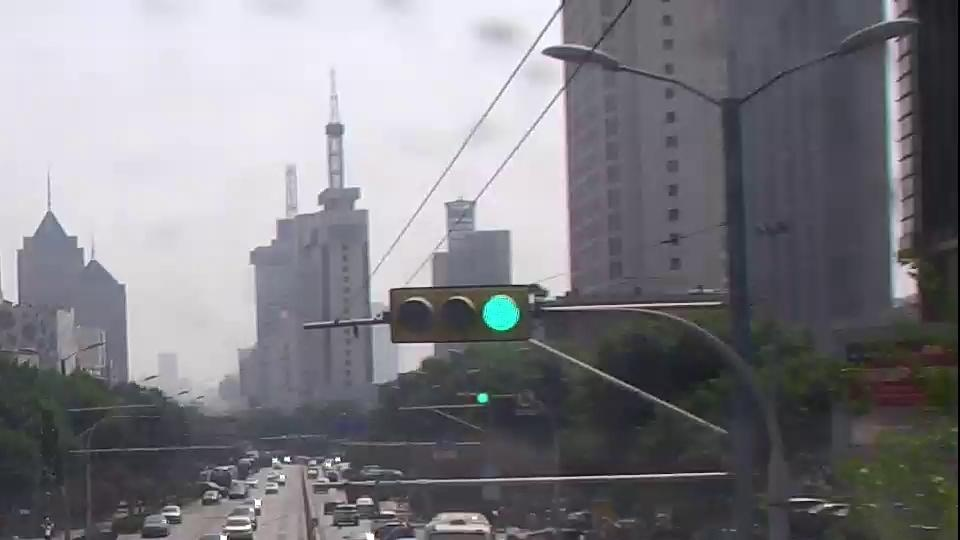green: (479, 290, 524, 332), (477, 391, 491, 403)
